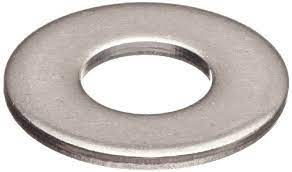No thread: (72, 42, 218, 114)
